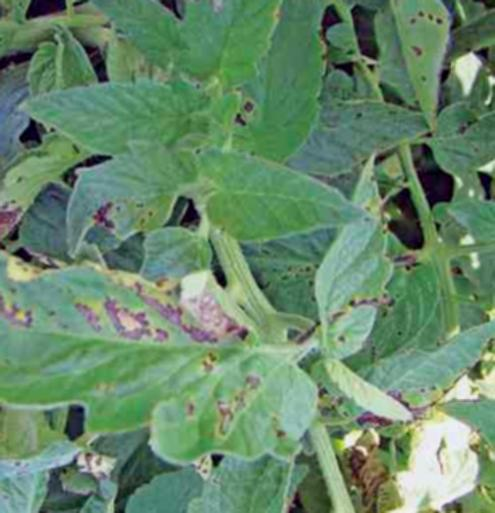Tomato Early blight leaf: (0, 236, 339, 469)
Tomato leaf: (191, 149, 382, 239), (23, 83, 187, 145), (94, 0, 197, 69)
